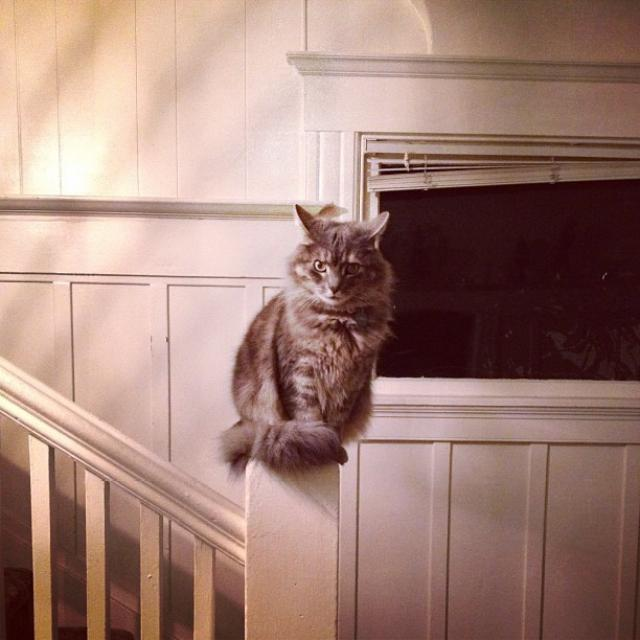cats: (209, 200, 393, 487)
